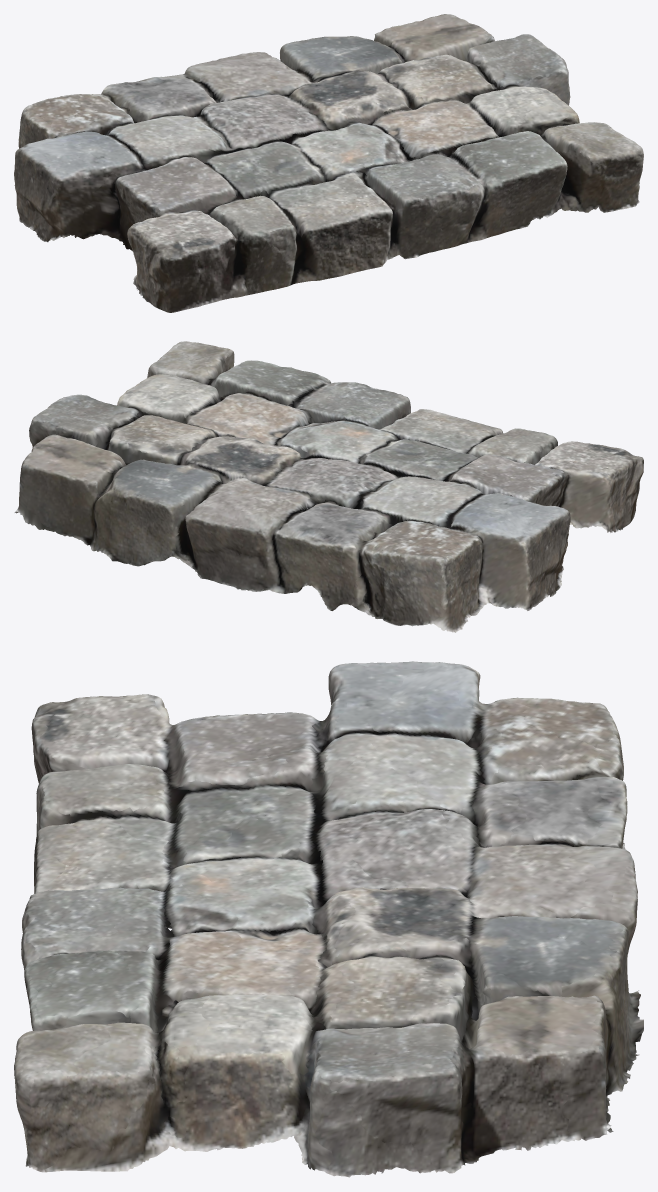
The model's file is stonepath.glb.
The picture shows the model from 3 angles, top to bottom: view 1: azimuth 30°, elevation 25°; view 2: azimuth 150°, elevation 25°; view 3: azimuth 270°, elevation 25°; orthographic projection. The views are drawn at different scales.
Parts seen in each view (by area): view 1: Object_2; view 2: Object_2; view 3: Object_2.
Boxes of the visible parts, bbox=[...] form: Object_2: bbox=[14, 14, 643, 312]; Object_2: bbox=[14, 341, 643, 632]; Object_2: bbox=[14, 661, 643, 1177].
Bounding box in the file's own units: 0.6266 × 0.0904 × 0.4098.
1 material, 1 textured.
